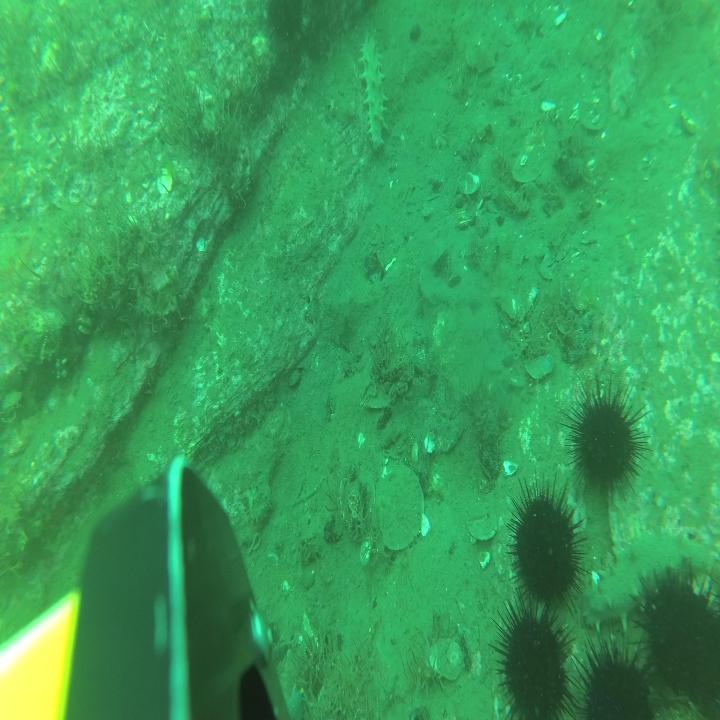echinus: (506, 468, 590, 624), (560, 370, 652, 503), (488, 583, 577, 720), (632, 562, 712, 700), (566, 630, 662, 720), (694, 599, 720, 720), (265, 0, 309, 52)
holothurian: (582, 528, 712, 633), (357, 25, 389, 155)
scallop: (378, 464, 424, 551), (430, 638, 464, 682), (467, 33, 497, 73), (467, 505, 497, 540)
